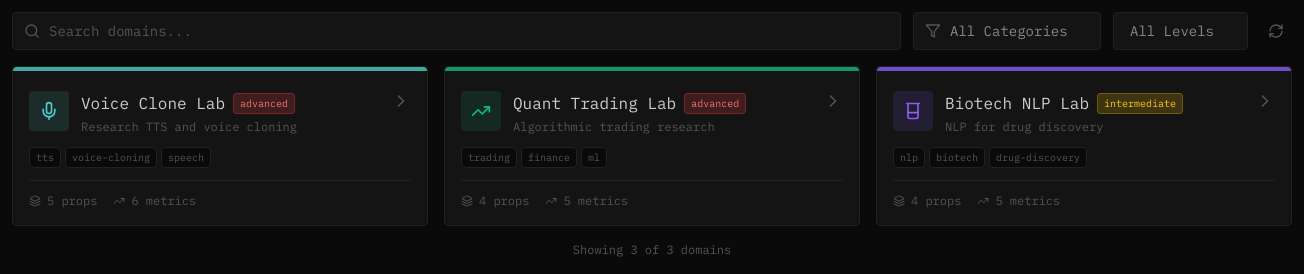
Test case: DomainBrowser › clear filters › clears all filters when clear clicked
Type "trading" into the field with placeholder "Search domains...". click: (456, 31)
box: 12,12 -> 901,50
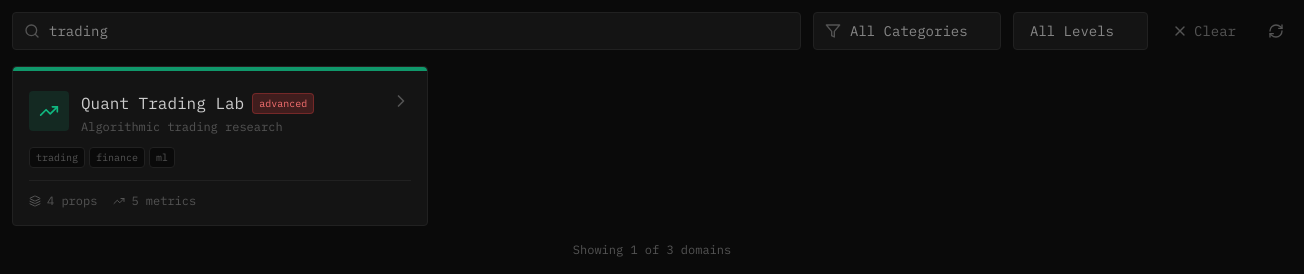
Click the button "Clear". click: (1204, 31)
box: 1160,12 -> 1248,50
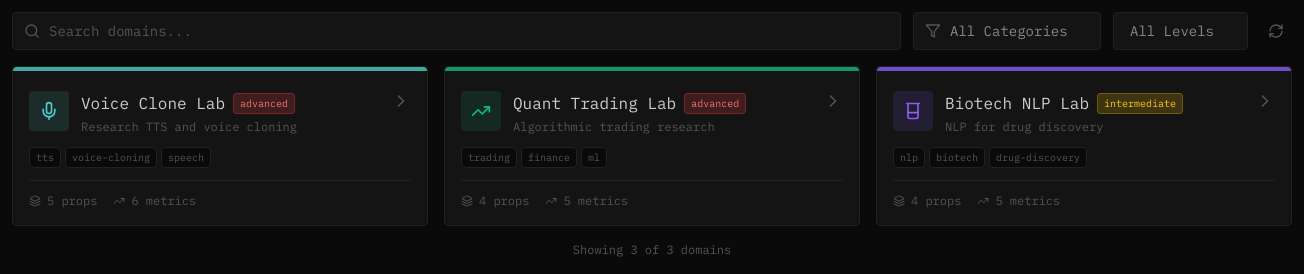
Expected: the heading "Quant Trading Lab" is shown, 513,91 -> 676,115
Result: the heading "Voice Clone Lab" is shown at 81,91 -> 225,115
